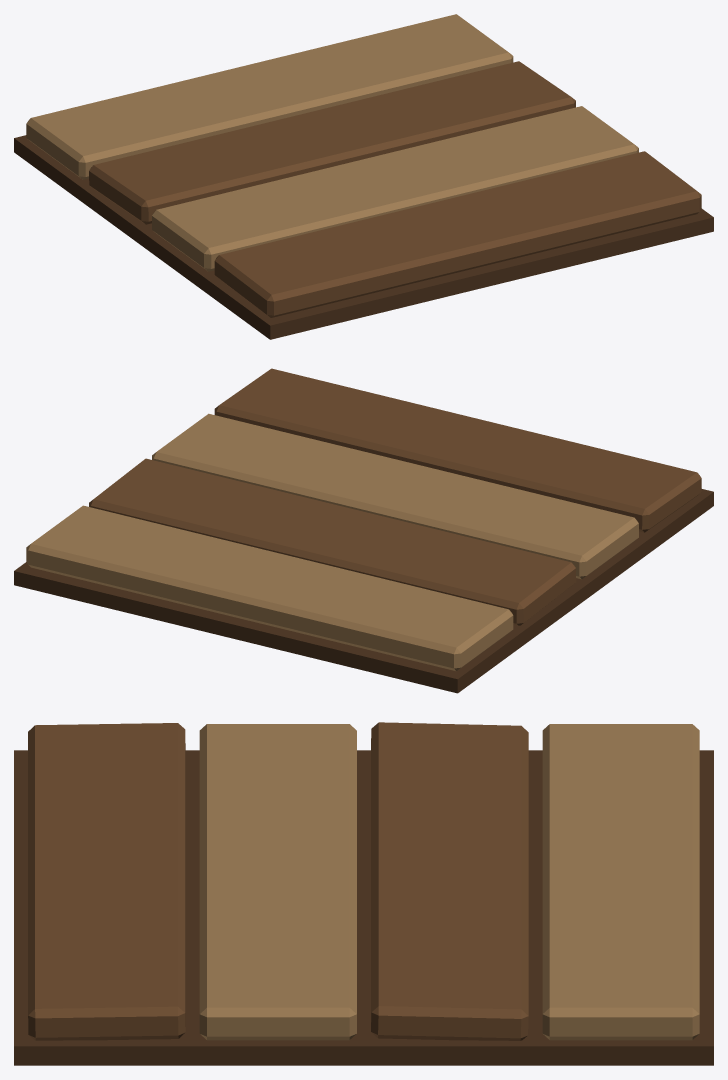
The model's file is road_planks.fbx.
3 renders of one model, top to bottom at view 1: azimuth 30°, elevation 25°; view 2: azimuth 150°, elevation 25°; view 3: azimuth 270°, elevation 25°, orthographic. The views are drawn at different scales.
Parts seen in each view (by area): view 1: Prop; view 2: Prop; view 3: Prop.
Boxes of the visible parts, x1=… form: Prop: x1=14, y1=14, x2=713, y2=339; Prop: x1=14, y1=368, x2=713, y2=693; Prop: x1=14, y1=722, x2=713, y2=1065.
Size of the model in its own units: 0.98 by 0.98 by 0.0826.
